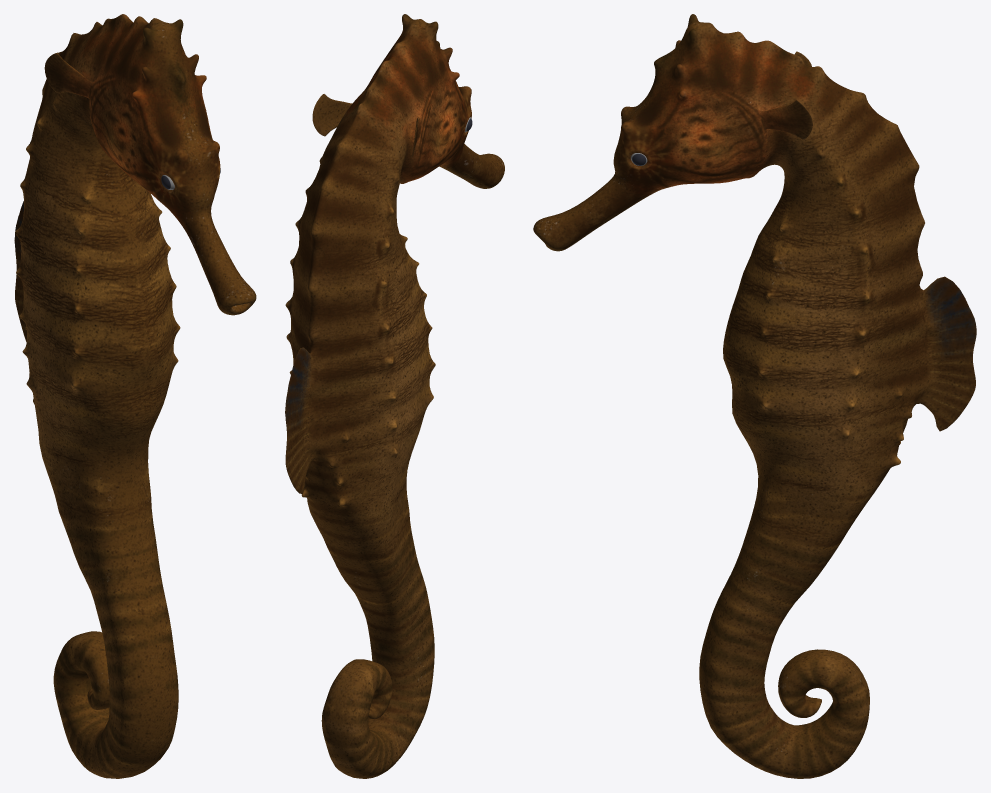
File: sea_horse (2).glb
The picture shows the model from 3 angles, left to right: view 1: azimuth 30°, elevation 25°; view 2: azimuth 150°, elevation 25°; view 3: azimuth 270°, elevation 25°; orthographic projection. The views are drawn at different scales.
Visible parts, largest first — view 1: node_id84_0; view 2: node_id84_0; view 3: node_id84_0.
Part boxes in pixels (box(x1,y1,x2,y2)): node_id84_0: box(14, 14, 256, 778); node_id84_0: box(285, 14, 504, 778); node_id84_0: box(533, 14, 976, 778).
Bounding box in the file's own units: 0.0794 × 0.512 × 0.2732.
1 material, 1 textured.
